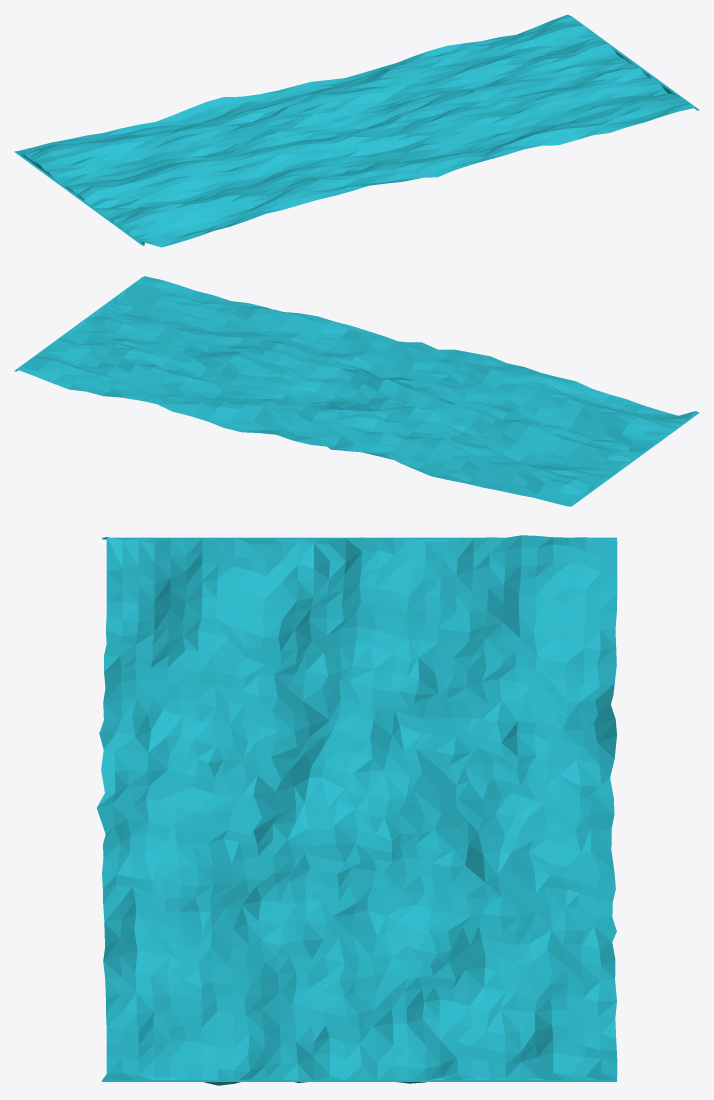
The model's file is seaanimated1.fbx.
The picture shows the model from 3 angles, top to bottom: view 1: azimuth 30°, elevation 25°; view 2: azimuth 150°, elevation 25°; view 3: azimuth 270°, elevation 25°; orthographic projection. The views are drawn at different scales.
Parts seen in each view (by area): view 1: Plane; view 2: Plane; view 3: Plane.
Boxes of the visible parts, box(x1,y1,x2,y2) form: Plane: box(14, 14, 699, 247); Plane: box(14, 276, 699, 506); Plane: box(97, 535, 617, 1085).
Size of the model in its own units: 38.32 by 1.06 by 15.5.
